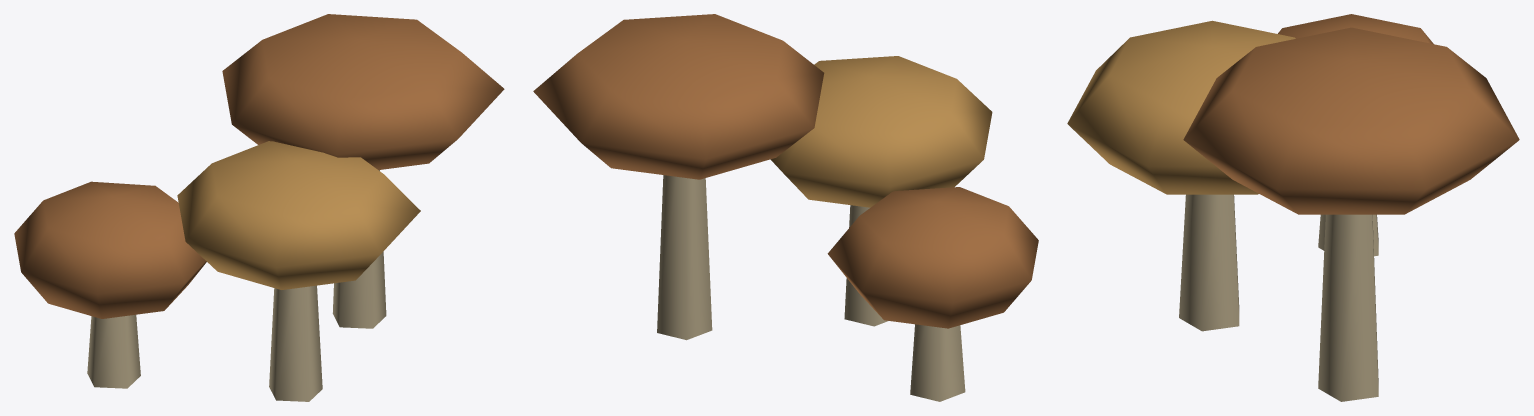
The model's file is mushrooms.glb.
The picture shows the model from 3 angles, left to right: view 1: azimuth 30°, elevation 25°; view 2: azimuth 150°, elevation 25°; view 3: azimuth 270°, elevation 25°; orthographic projection. The views are drawn at different scales.
Visible parts, largest first — view 1: mushrooms; view 2: mushrooms; view 3: mushrooms.
Part boxes in pixels (x1,y1,x2,y2): mushrooms: (14,14,504,401); mushrooms: (533,14,1038,401); mushrooms: (1067,14,1519,401).
Size of the model in its own units: 0.4417 by 0.26 by 0.3252.
